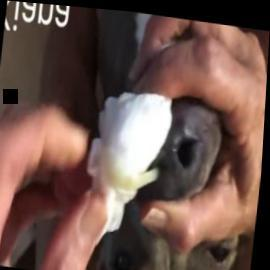nasal_discharge: (94, 137, 180, 197)
